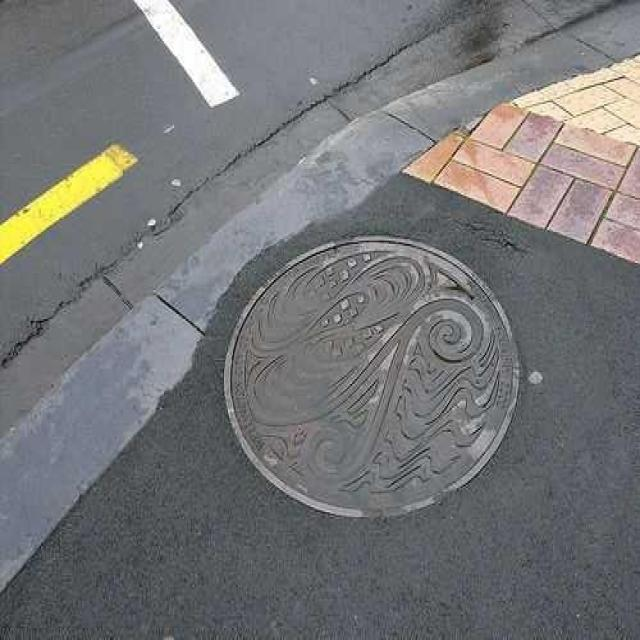manhole: (225, 237, 520, 517)
